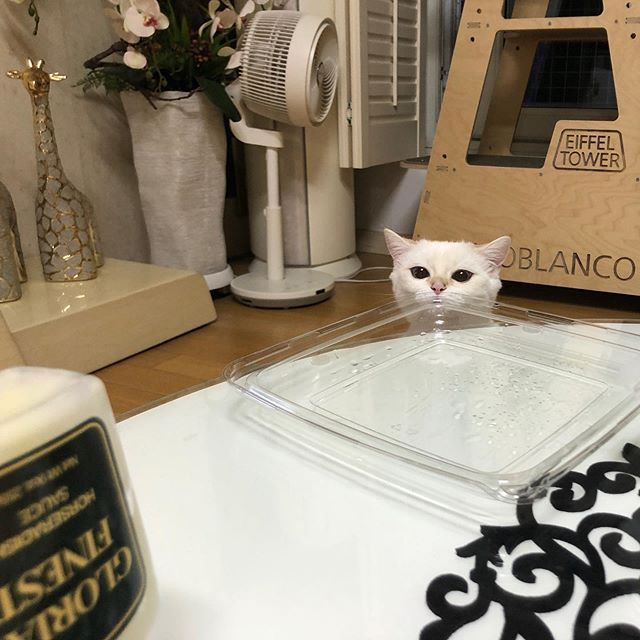cat: (372, 223, 516, 330)
